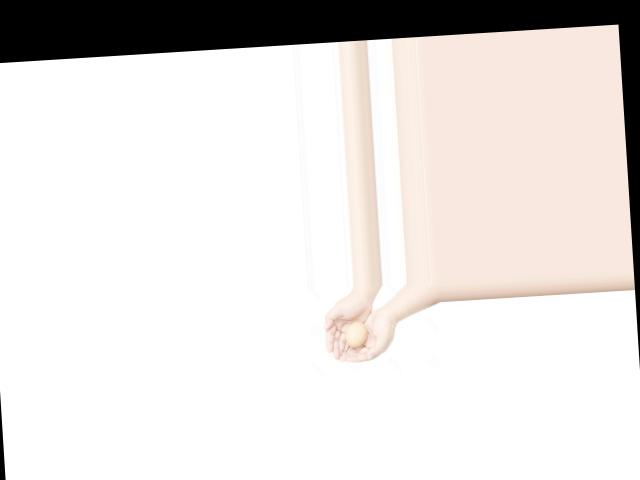egg: (345, 321, 368, 346)
